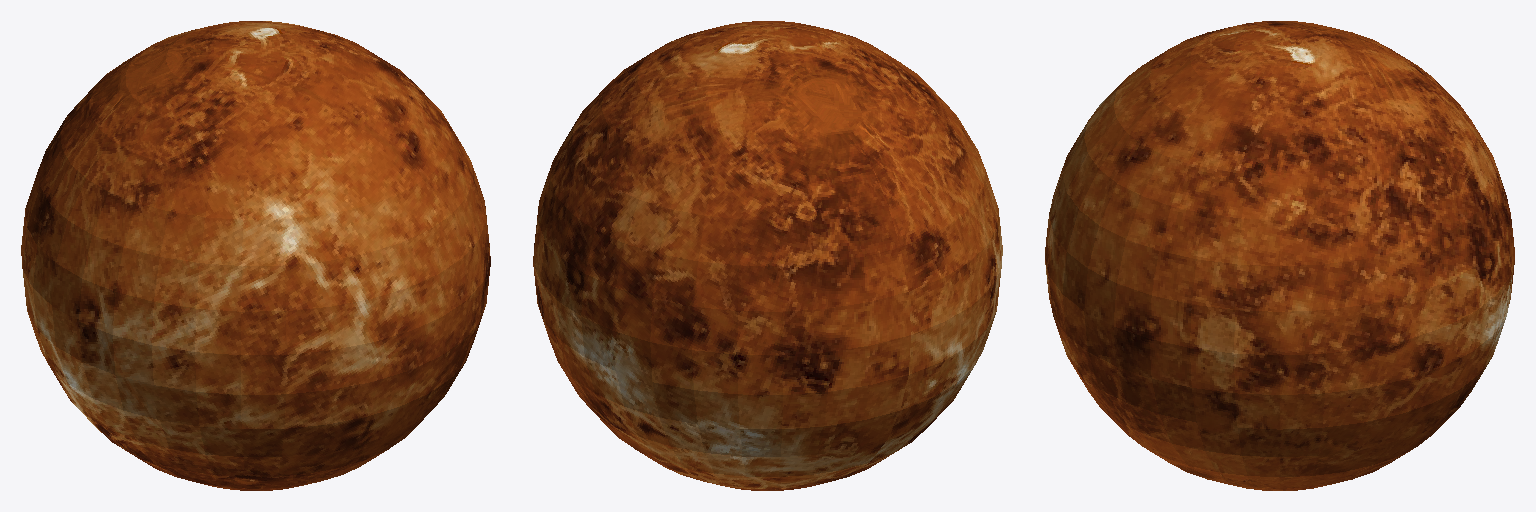
The picture shows the model from 3 angles: view 1: azimuth 30°, elevation 25°; view 2: azimuth 150°, elevation 25°; view 3: azimuth 270°, elevation 25°; orthographic projection.
Visible parts, largest first — view 1: earth_Sphere.001; view 2: earth_Sphere.001; view 3: earth_Sphere.001.
Part boxes in pixels (x1,y1,x2,y2): earth_Sphere.001: (21, 21, 490, 490); earth_Sphere.001: (533, 21, 1002, 490); earth_Sphere.001: (1045, 21, 1514, 490).
Size of the model in its own units: 2 by 2 by 2.
1 materials, 1 textured.